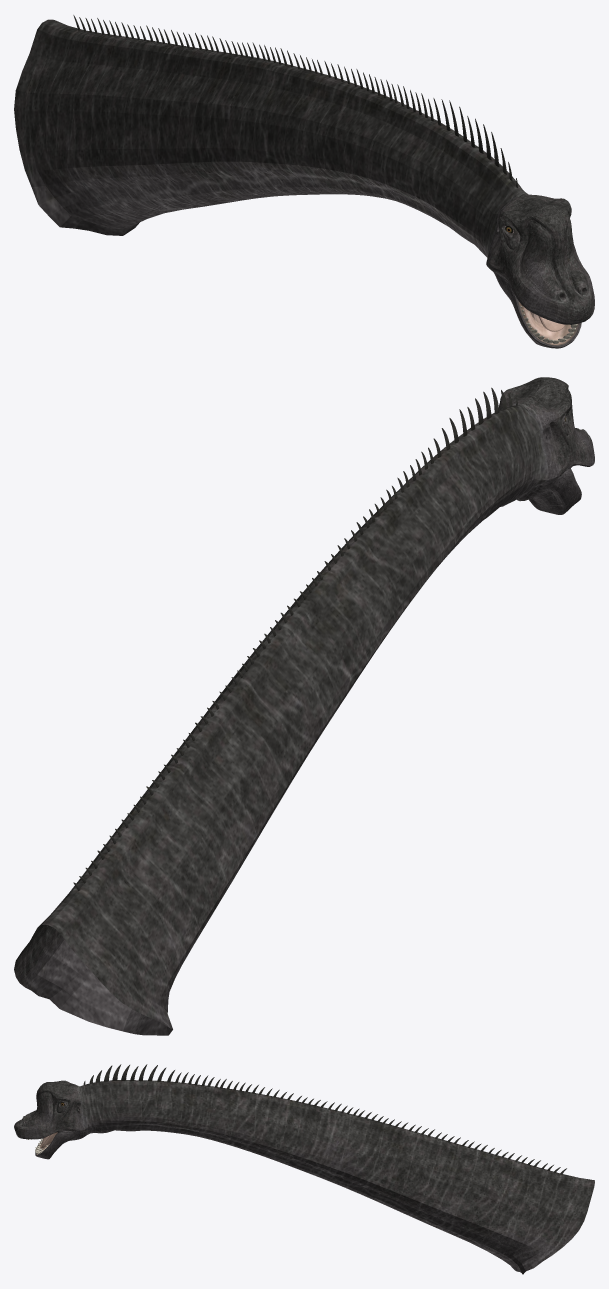
The model's file is DinoLargoCabeza.obj.
3 renders of one model, top to bottom at view 1: azimuth 30°, elevation 25°; view 2: azimuth 150°, elevation 25°; view 3: azimuth 270°, elevation 25°, orthographic. The views are drawn at different scales.
Parts seen in each view (by area): view 1: cabeza; view 2: cabeza; view 3: cabeza.
Part boxes in pixels (x1,y1,x2,y2): cabeza: [14, 15, 594, 348]; cabeza: [14, 377, 594, 1035]; cabeza: [14, 1064, 594, 1274].
Size of the model in its own units: 1.25 by 3.42 by 8.8.
6 materials, 6 textured.
